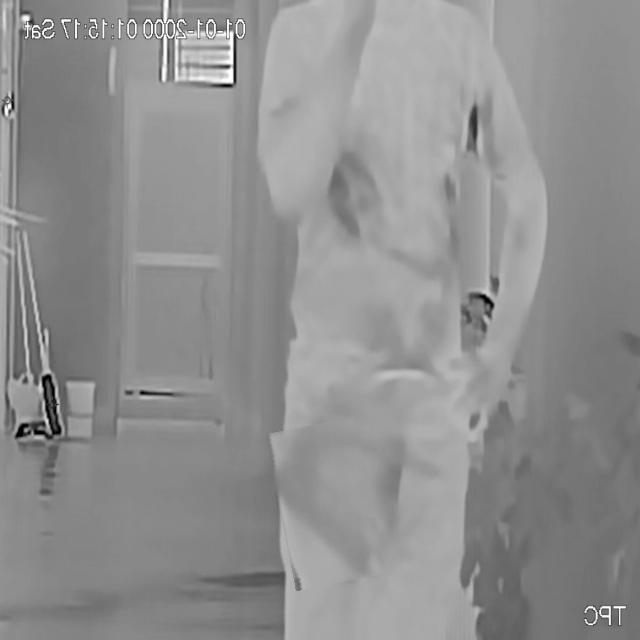Weapon: (273, 420, 379, 588)
